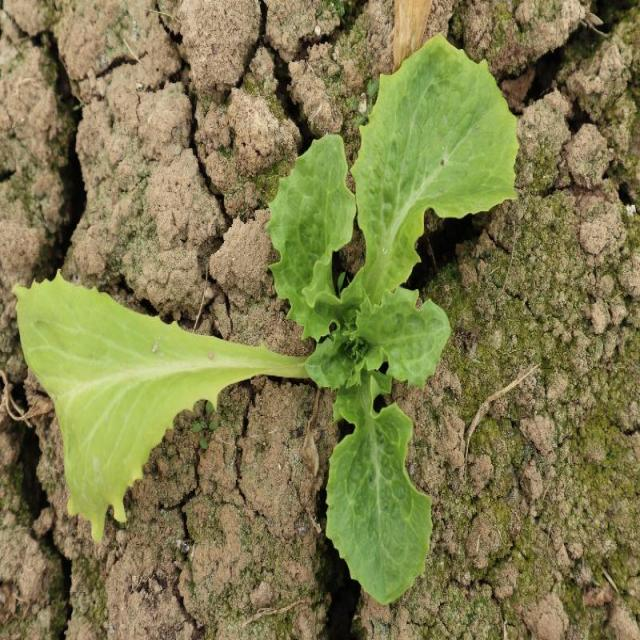crop: (17, 32, 517, 604)
